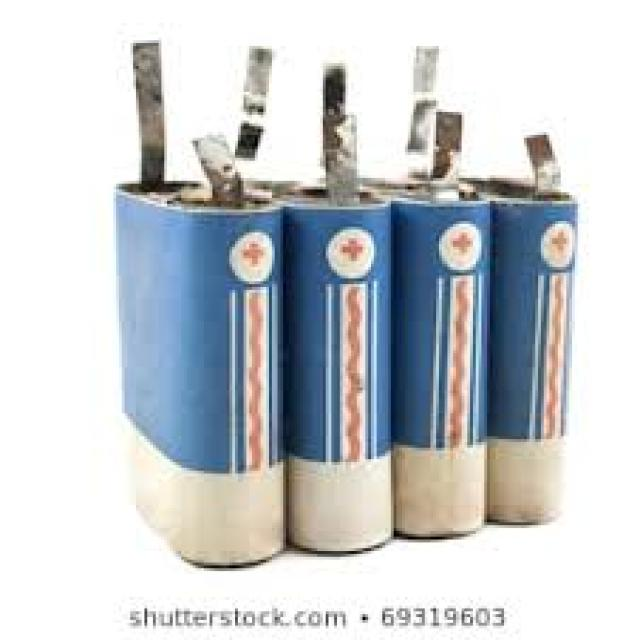battery: (116, 174, 575, 566)
